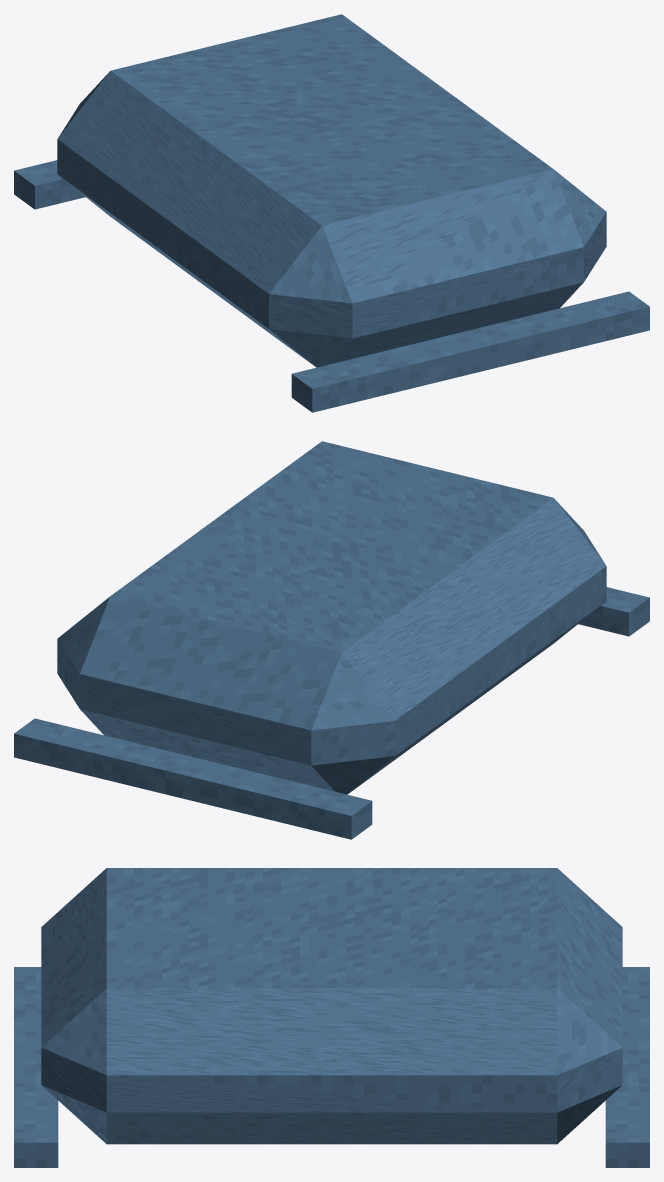
File: dry_bag_large.glb
3 views of the same model, one above another, from view 1: azimuth 30°, elevation 25°; view 2: azimuth 150°, elevation 25°; view 3: azimuth 270°, elevation 25° (orthographic). The views are drawn at different scales.
Parts seen in each view (by area): view 1: block_sealed pouch, block_sealed ends (×2); view 2: block_sealed pouch, block_sealed ends (×2); view 3: block_sealed pouch, block_sealed ends (×2).
Part boxes in pixels (x1,y1,x2,y2): block_sealed pouch: [57, 14, 606, 367]; block_sealed ends (×2): [14, 160, 649, 412]; block_sealed pouch: [57, 441, 606, 794]; block_sealed ends (×2): [14, 587, 649, 839]; block_sealed pouch: [41, 868, 622, 1144]; block_sealed ends (×2): [14, 967, 649, 1167].
Size of the model in its own units: 0.2286 by 0.0946 by 0.35.
1 material, 1 textured.
